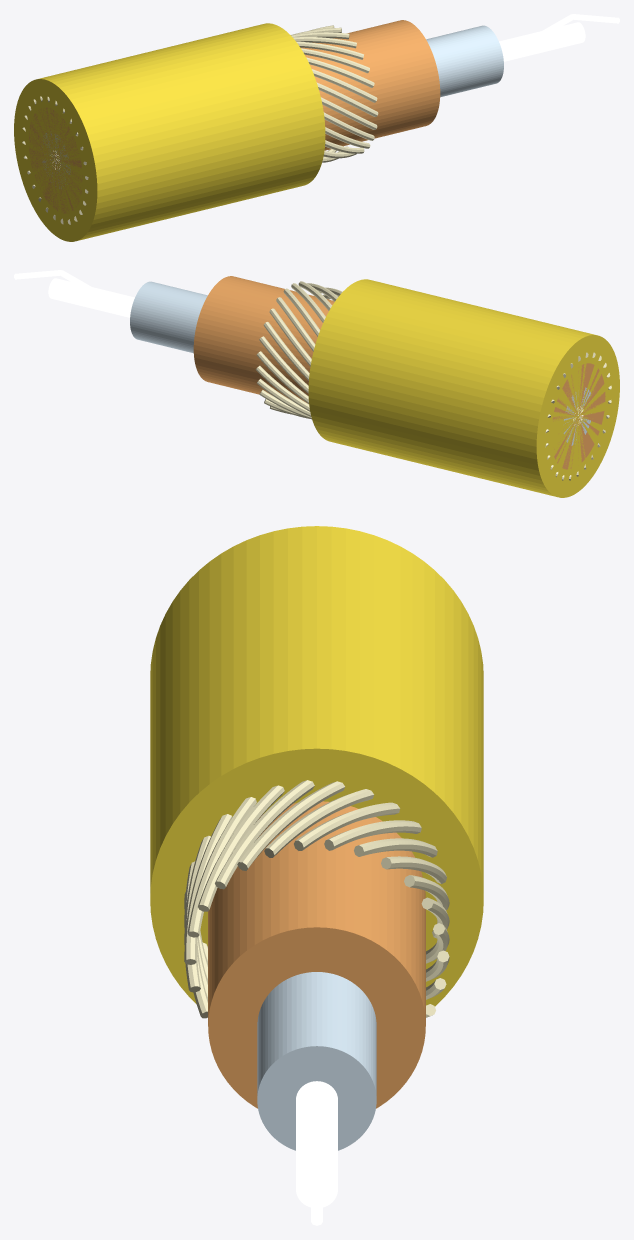
Rendered from fibre.glb.
The picture shows the model from 3 angles, top to bottom: view 1: azimuth 30°, elevation 25°; view 2: azimuth 150°, elevation 25°; view 3: azimuth 270°, elevation 25°; orthographic projection. The views are drawn at different scales.
Parts seen in each view (by area): view 1: p0, p27, p28, p29, p30, p16, p17, p15, p18, p14, p19, p13 (+3 smaller); view 2: p0, p27, p28, p29, p30, p7, p8, p6, p9, p5, p10, p4 (+2 smaller); view 3: p0, p27, p28, p29, p15, p16, p14, p13, p17, p12, p11, p18 (+2 smaller).
Boxes of the visible parts, x1,y1,x2,y2 form: p0: [14, 23, 325, 241]; p27: [29, 20, 440, 213]; p28: [42, 25, 503, 188]; p29: [53, 22, 585, 169]; p30: [540, 14, 619, 33]; p16: [38, 57, 374, 201]; p17: [32, 69, 377, 188]; p15: [45, 48, 369, 212]; p18: [27, 82, 378, 174]; p14: [53, 41, 363, 220]; p19: [23, 97, 377, 159]; p13: [60, 36, 356, 224]; p0: [308, 279, 619, 497]; p27: [193, 276, 605, 469]; p28: [130, 281, 590, 445]; p29: [48, 278, 583, 425]; p30: [14, 270, 93, 289]; p7: [259, 336, 611, 393]; p8: [263, 322, 611, 403]; p6: [256, 351, 610, 403]; p9: [269, 308, 609, 418]; p5: [255, 363, 606, 411]; p10: [276, 297, 605, 433]; p4: [257, 355, 601, 416]; p0: [150, 526, 483, 1006]; p27: [208, 801, 425, 1108]; p28: [257, 972, 376, 1150]; p29: [296, 1081, 337, 1207]; p15: [215, 780, 314, 889]; p16: [198, 785, 284, 911]; p14: [237, 781, 344, 870]; p13: [264, 789, 374, 857]; p17: [187, 797, 256, 937]; p12: [294, 802, 400, 850]; p11: [324, 820, 421, 850]; p18: [184, 814, 231, 964].
Size of the model in its own units: 0.3715 by 0.095 by 0.095.
